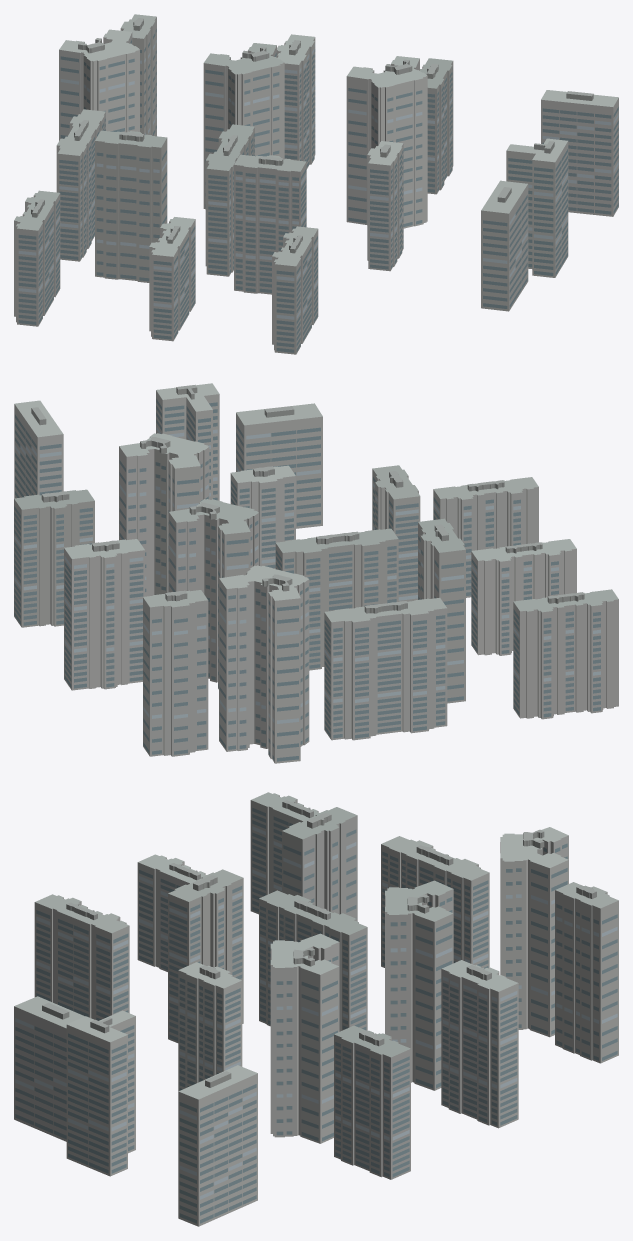
Rendered from apt-a13881005.glb.
The picture shows the model from 3 angles, top to bottom: view 1: azimuth 30°, elevation 25°; view 2: azimuth 150°, elevation 25°; view 3: azimuth 270°, elevation 25°; orthographic projection. The views are drawn at different scales.
Parts seen in each view (by area): view 1: apt-a13881005; view 2: apt-a13881005; view 3: apt-a13881005.
Boxes of the visible parts, x1,y1,x2,y2 form: apt-a13881005: [14, 14, 618, 354]; apt-a13881005: [14, 383, 618, 763]; apt-a13881005: [14, 792, 618, 1226].
Bounding box in the file's own units: 298 × 75 × 235.
